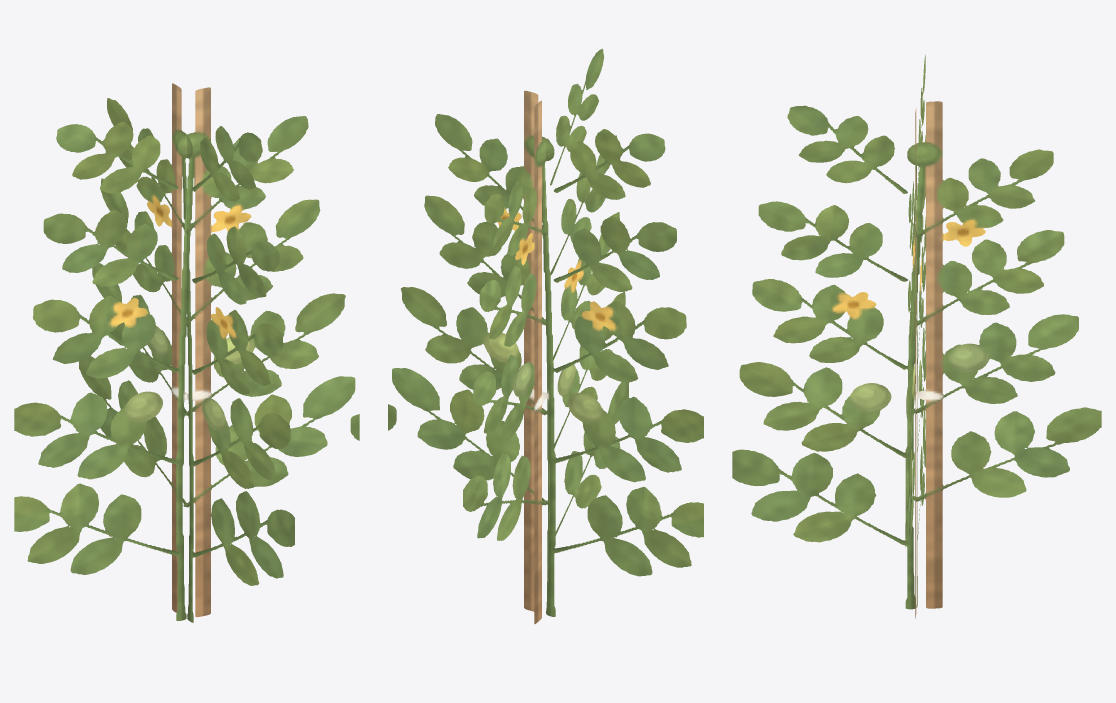
The model's file is crop_tomato_2.glb.
The picture shows the model from 3 angles, left to right: view 1: azimuth 30°, elevation 25°; view 2: azimuth 150°, elevation 25°; view 3: azimuth 270°, elevation 25°; orthographic projection. The views are drawn at different scales.
Parts seen in each view (by area): view 1: crop_tomato_2; view 2: crop_tomato_2; view 3: crop_tomato_2.
Boxes of the visible parts, x1=… form: crop_tomato_2: x1=14, y1=83, x2=359, y2=622; crop_tomato_2: x1=388, y1=48, x2=703, y2=623; crop_tomato_2: x1=732, y1=54, x2=1101, y2=618.
Bounding box in the file's own units: 0.4391 × 0.68 × 0.4389.
Materials: 1 (1 with a texture image).
